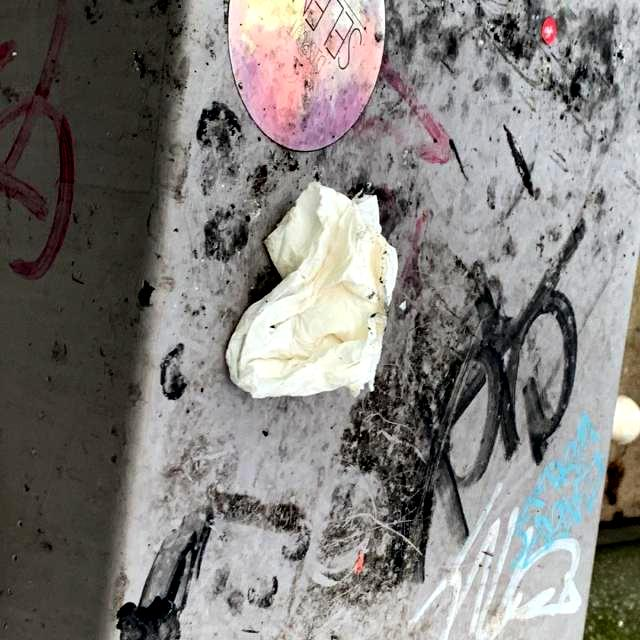Paper: (224, 184, 400, 400)
